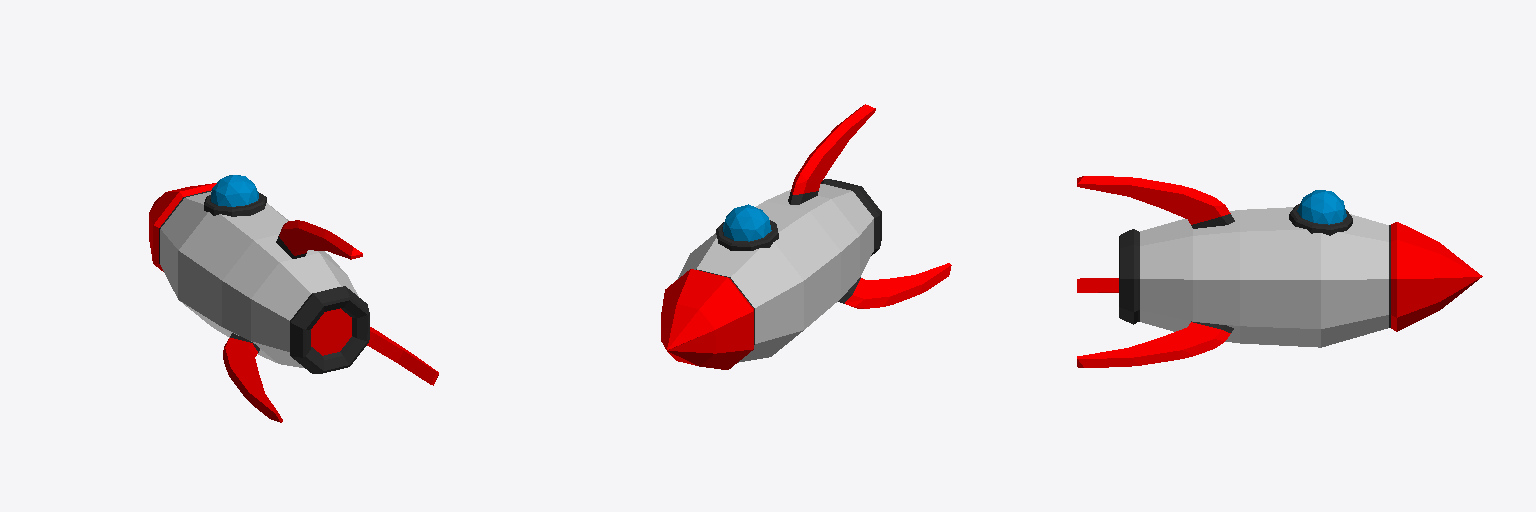
Rendered from rocket_basic.sgm.obj.
The picture shows the model from 3 angles: view 1: azimuth 30°, elevation 25°; view 2: azimuth 150°, elevation 25°; view 3: azimuth 270°, elevation 25°; orthographic projection.
Visible parts, largest first — view 1: 0, 1, 2, 3; view 2: 0, 1, 2, 3; view 3: 0, 1, 2, 3.
Part boxes in pixels (bbox=[...]): 0: bbox=[160, 191, 358, 367]; 1: bbox=[149, 183, 438, 422]; 2: bbox=[159, 190, 369, 373]; 3: bbox=[211, 175, 258, 206]; 0: bbox=[677, 184, 873, 362]; 1: bbox=[661, 104, 951, 369]; 2: bbox=[696, 179, 881, 344]; 3: bbox=[723, 204, 771, 241]; 0: bbox=[1140, 207, 1388, 347]; 1: bbox=[1077, 176, 1482, 367]; 2: bbox=[1119, 204, 1390, 332]; 3: bbox=[1297, 190, 1346, 224].
Size of the model in its own units: 0.2409 by 0.221 by 0.5048.